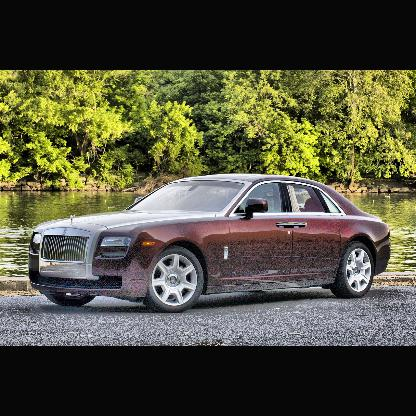Rolls-Royce Ghost Sedan 2012: (29, 174, 391, 312)
